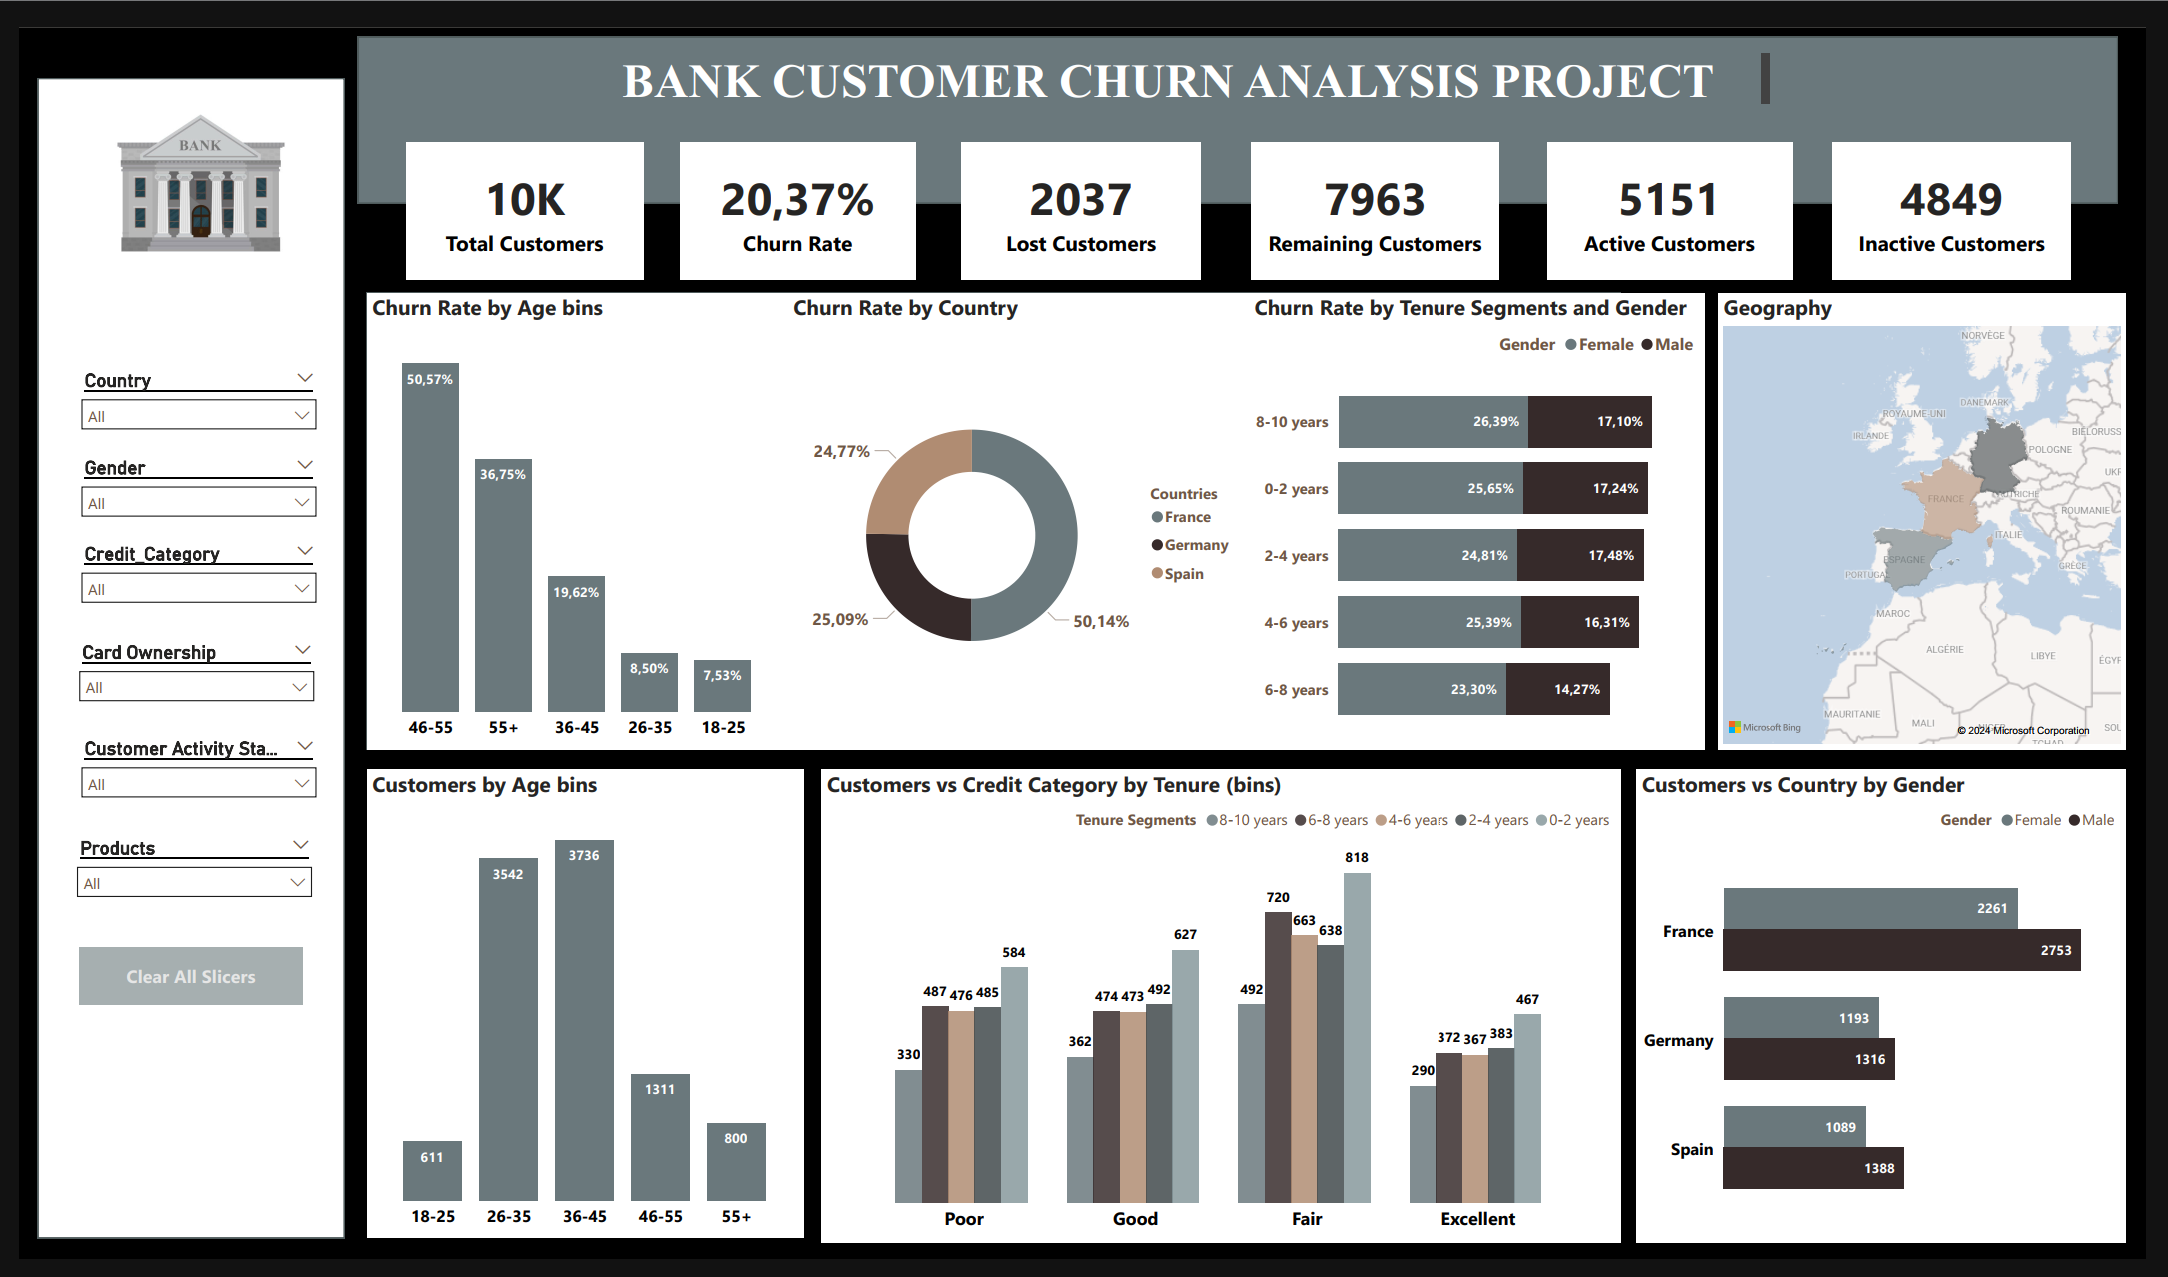

This screenshot's page, from the dashboard's own definition file:
{"tool":"powerbi","page":{"name":"Page 1","canvas":[1900,1100],"ordinal":0},"visuals":[{"type":"shape","box":[15.7,45.1,274.5,1037.3],"z":0},{"type":"shape","box":[1505.9,692.2,376.5,388.2],"z":1000},{"type":"shape","box":[309.8,237.3,1121.6,407.8],"z":2000},{"type":"clusteredColumnChart","title":"Customers by Age bins","fields":{"Category":["Churn_Modelling.Age_Group"],"Y":["CountNonNull(Churn_Modelling.CustomerId)"]},"box":[309.8,662.7,390.2,419.6],"z":3000},{"type":"clusteredColumnChart","title":"Customers vs Credit Category by Tenure (bins)","fields":{"Category":["Churn_Modelling.Credit_Category"],"Y":["CountNonNull(Churn_Modelling.CustomerId)"],"Series":["Churn_Modelling.Tenure_Groups"]},"box":[715.7,662.7,715.7,423.5],"z":4000},{"type":"clusteredBarChart","title":"Customers vs Country by Gender","fields":{"Y":["CountNonNull(Churn_Modelling.CustomerId)"],"Category":["Churn_Modelling.Geography"],"Series":["Churn_Modelling.Gender"]},"box":[1445.1,662.7,437.3,423.5],"z":5000},{"type":"columnChart","title":"Churn Rate by Age bins","fields":{"Category":["Churn_Modelling.Age_Group"],"Y":["Churn_Modelling.Churn Rate"]},"box":[309.8,237.3,376.5,407.8],"z":6000},{"type":"donutChart","title":"Churn Rate by Country","fields":{"Category":["Churn_Modelling.Geography"],"Y":["CountNonNull(Churn_Modelling.Geography)"]},"box":[686.3,237.3,411.8,407.8],"z":7000},{"type":"barChart","title":"Churn Rate by Tenure Segments and Gender","fields":{"Y":["Churn_Modelling.Churn Rate"],"Category":["Churn_Modelling.Tenure_Groups"],"Series":["Churn_Modelling.Gender"]},"box":[1098,237.3,407.8,407.8],"z":8000},{"type":"filledMap","title":"Geography","fields":{"Category":["Churn_Modelling.Geography"],"Series":["Churn_Modelling.CustomerId"]},"box":[1517.6,237.3,364.7,407.8],"z":9000},{"type":"slicer","fields":{"Values":["Churn_Modelling.Geography"]},"box":[45.1,300,229.4,64.7],"z":10000},{"type":"slicer","fields":{"Values":["Churn_Modelling.Gender"]},"box":[45.1,378.4,229.4,62.7],"z":11000},{"type":"slicer","fields":{"Values":["Churn_Modelling.HasCrCard"]},"box":[43.1,543.1,229.4,66.7],"z":12000},{"type":"slicer","fields":{"Values":["Churn_Modelling.Credit_Category"]},"box":[45.1,454.9,229.4,62.7],"z":13000},{"type":"slicer","fields":{"Values":["Churn_Modelling.IsActiveMember"]},"box":[45.1,629.4,229.4,76.5],"z":14000},{"type":"slicer","fields":{"Values":["Churn_Modelling.NumOfProducts"]},"box":[41.2,717.6,229.4,62.7],"z":15000},{"type":"shape","box":[302,7.8,1572.5,149],"z":16000},{"type":"card","fields":{"Values":["Churn_Modelling.Total Customers"]},"box":[345.1,102,211.8,123.5],"z":17000},{"type":"card","fields":{"Values":["Churn_Modelling.Churn Rate"]},"box":[590.2,102,209.8,123.5],"z":18000},{"type":"card","fields":{"Values":["Churn_Modelling.Total Churned"]},"box":[841.2,102,213.7,123.5],"z":19000},{"type":"card","fields":{"Values":["Churn_Modelling.Remaining Customers"]},"box":[1100,102,221.6,123.5],"z":20000},{"type":"card","fields":{"Values":["Churn_Modelling.Active_Customers"]},"box":[1364.7,102,219.6,123.5],"z":21000},{"type":"card","fields":{"Values":["Churn_Modelling.Inactive Customers"]},"box":[1619.6,102,213.7,123.5],"z":22000},{"type":"image","box":[52.9,52.9,217.6,172.5],"z":23000},{"type":"textbox","box":[533.3,17.6,1035.3,56.9],"z":24000},{"type":"actionButton","box":[52.9,821.6,200,51],"z":25000}]}

Visuals, with their boxes in screenshot pixels (x1, y1, x2, y2), scaled from the page's 1900x1100 canvas onto the 2168x1277 screenshot:
shape: locate(18, 52, 331, 1257)
shape: locate(1718, 804, 2148, 1254)
shape: locate(353, 275, 1633, 749)
"Customers by Age bins" clusteredColumnChart: locate(353, 769, 799, 1256)
"Customers vs Credit Category by Tenure (bins)" clusteredColumnChart: locate(817, 769, 1633, 1261)
"Customers vs Country by Gender" clusteredBarChart: locate(1649, 769, 2148, 1261)
"Churn Rate by Age bins" columnChart: locate(353, 275, 783, 749)
"Churn Rate by Country" donutChart: locate(783, 275, 1253, 749)
"Churn Rate by Tenure Segments and Gender" barChart: locate(1253, 275, 1718, 749)
"Geography" filledMap: locate(1732, 275, 2148, 749)
slicer - Churn_Modelling.Geography: locate(51, 348, 313, 423)
slicer - Churn_Modelling.Gender: locate(51, 439, 313, 512)
slicer - Churn_Modelling.HasCrCard: locate(49, 630, 311, 708)
slicer - Churn_Modelling.Credit_Category: locate(51, 528, 313, 601)
slicer - Churn_Modelling.IsActiveMember: locate(51, 731, 313, 819)
slicer - Churn_Modelling.NumOfProducts: locate(47, 833, 309, 906)
shape: locate(345, 9, 2139, 182)
card - Churn_Modelling.Total Customers: locate(394, 118, 635, 262)
card - Churn_Modelling.Churn Rate: locate(673, 118, 913, 262)
card - Churn_Modelling.Total Churned: locate(960, 118, 1204, 262)
card - Churn_Modelling.Remaining Customers: locate(1255, 118, 1508, 262)
card - Churn_Modelling.Active_Customers: locate(1557, 118, 1808, 262)
card - Churn_Modelling.Inactive Customers: locate(1848, 118, 2092, 262)
image: locate(60, 61, 309, 262)
textbox: locate(609, 20, 1790, 86)
actionButton: locate(60, 954, 289, 1013)
